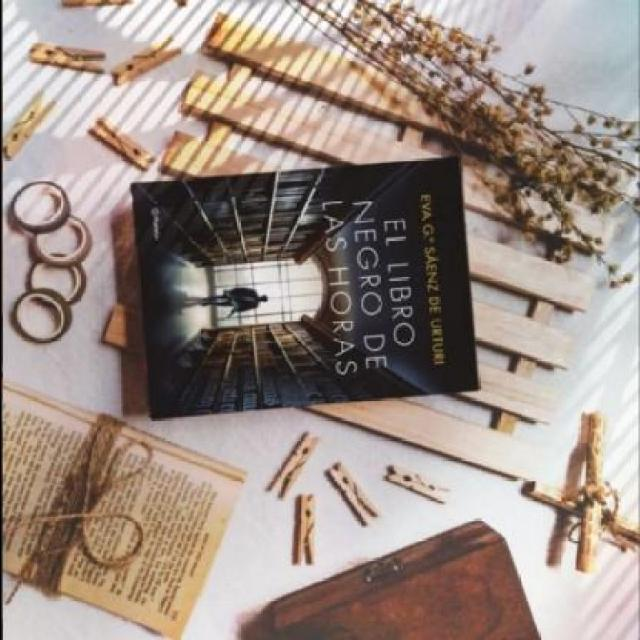book: (82, 95, 514, 456)
